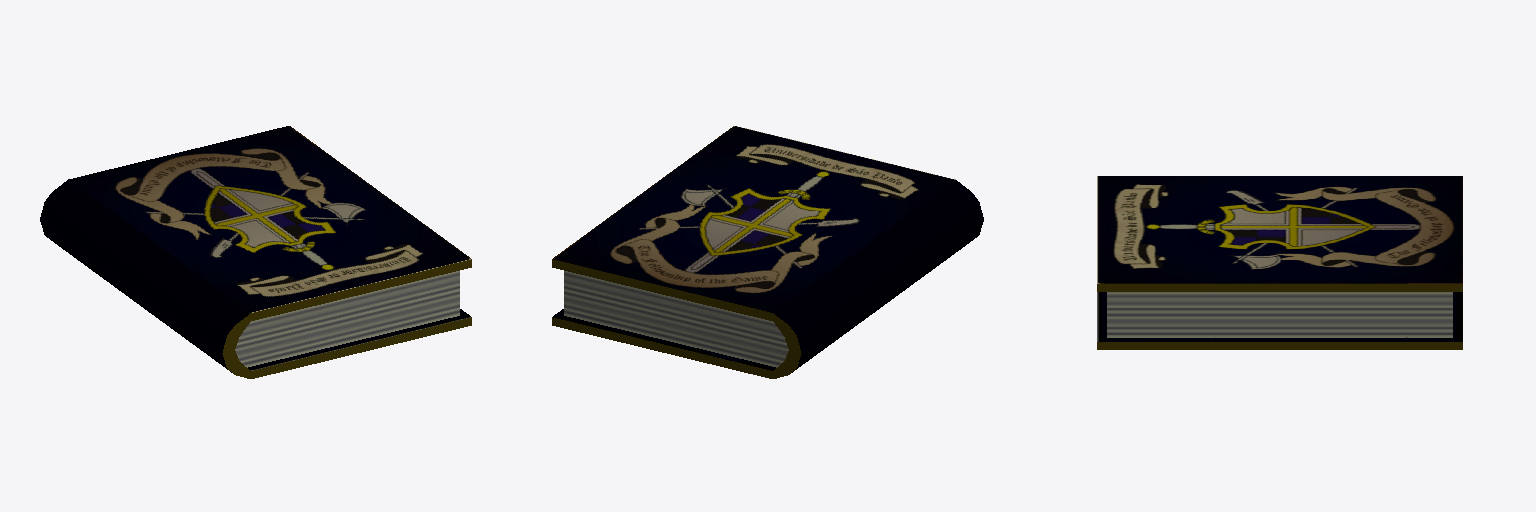
The picture shows the model from 3 angles: view 1: azimuth 30°, elevation 25°; view 2: azimuth 150°, elevation 25°; view 3: azimuth 270°, elevation 25°; orthographic projection.
Bounding box in the file's own units: 3.49 × 0.8852 × 4.41.
Materials: 1 (1 with a texture image).